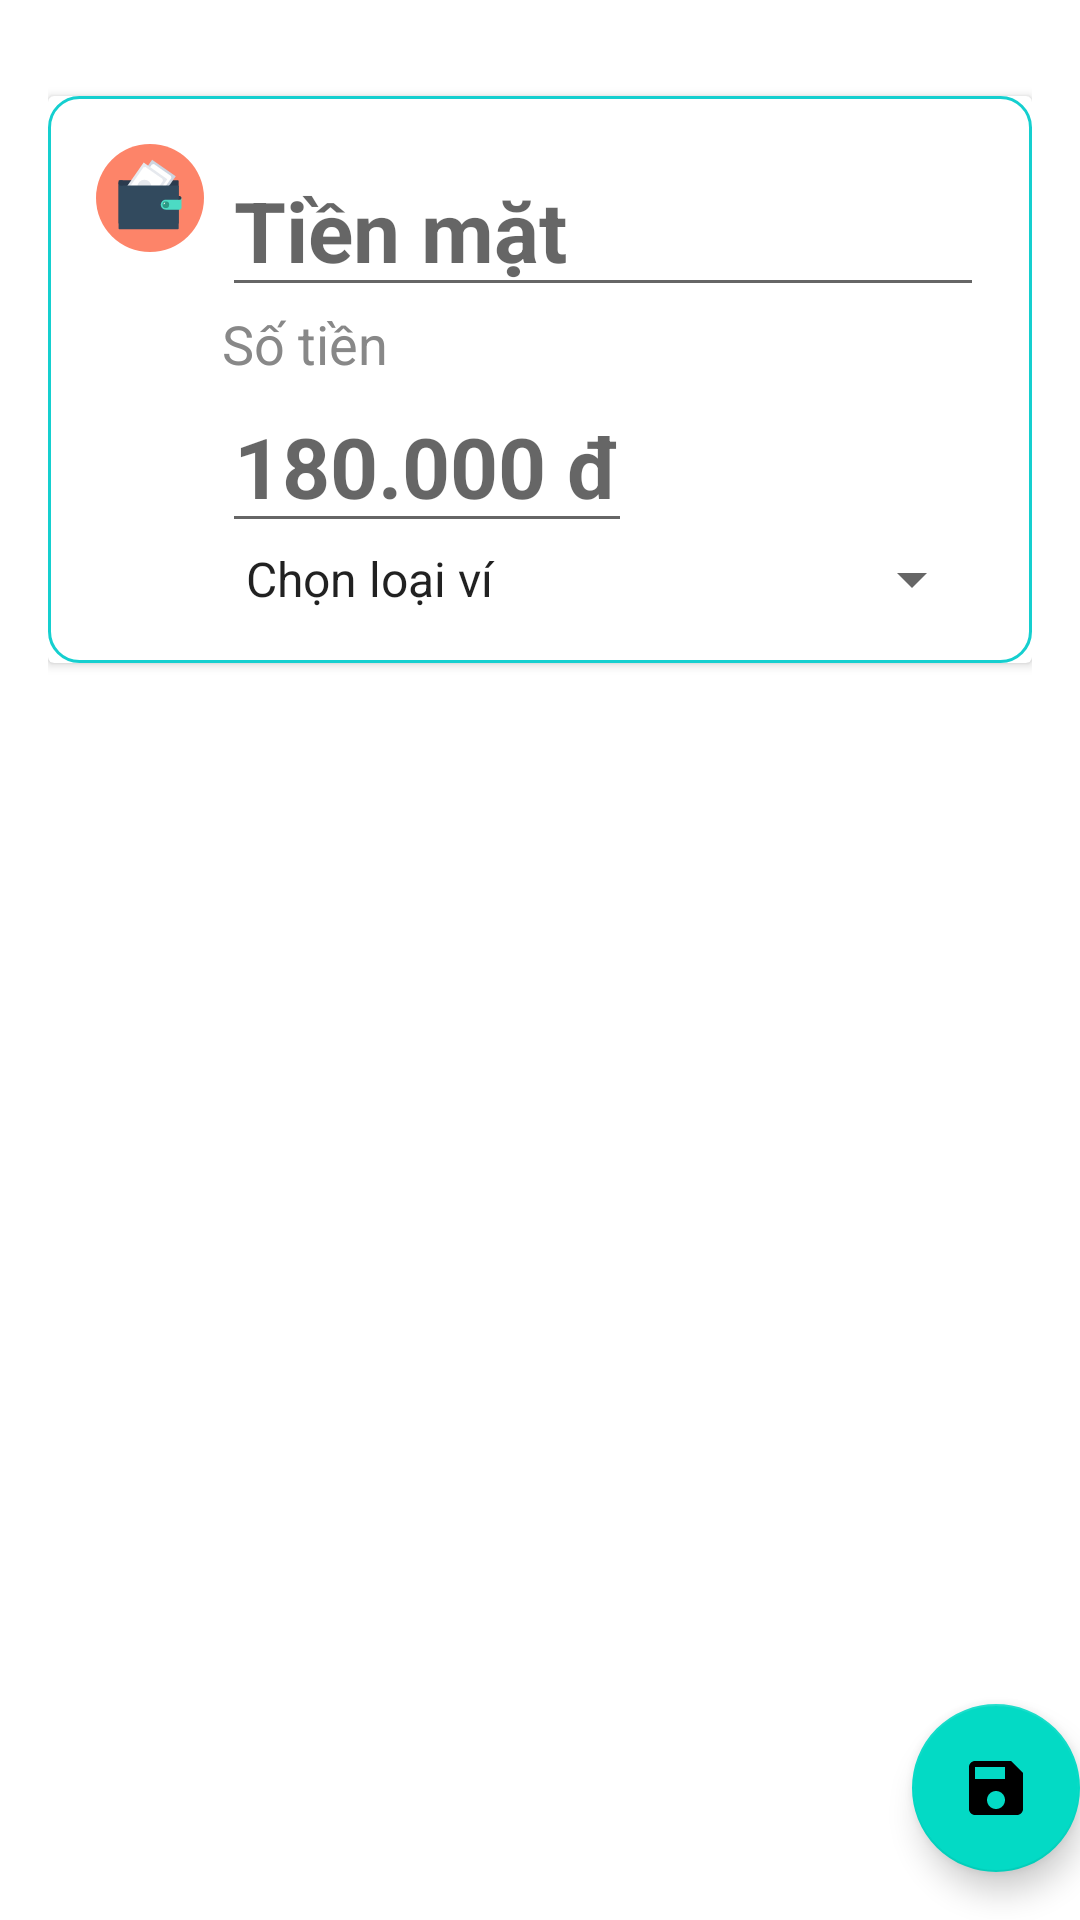

Icons on this 1080px×1920px Android screen, each with the point to tap as point (x, y):
save: point (996, 1788)
wallet: point (150, 198)
